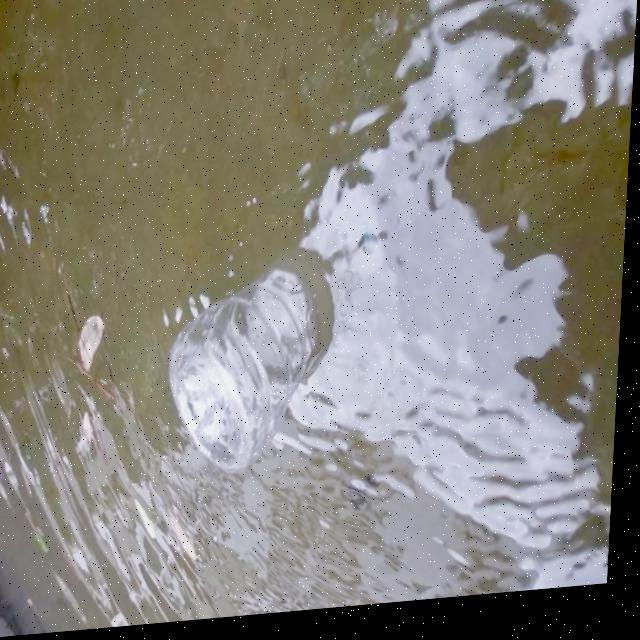leaf: (63, 305, 117, 375)
waterbottle: (160, 249, 347, 473)
